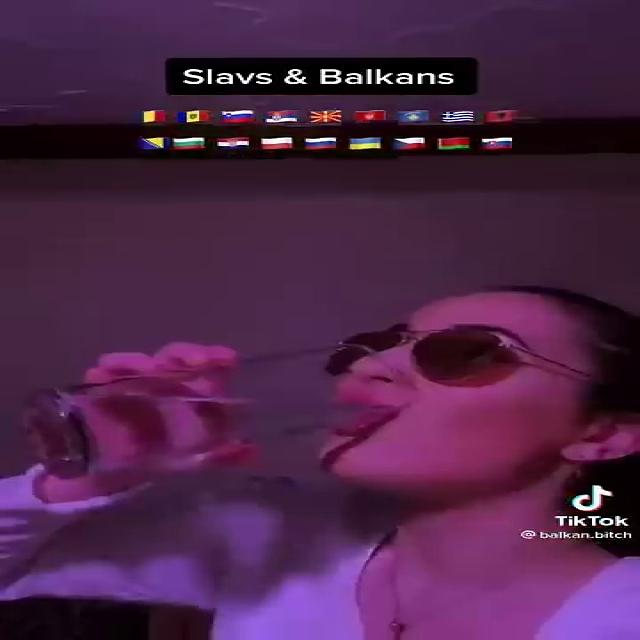Cup: (19, 343, 379, 478)
Hand: (48, 338, 266, 486)
Mouth: (323, 398, 412, 433)
